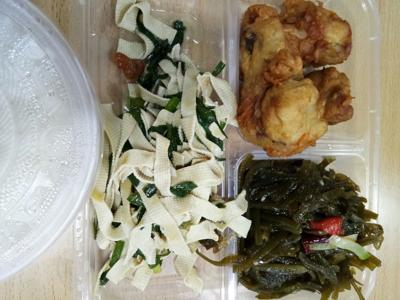gdf: (91, 2, 245, 288)
jt: (233, 2, 362, 157)
